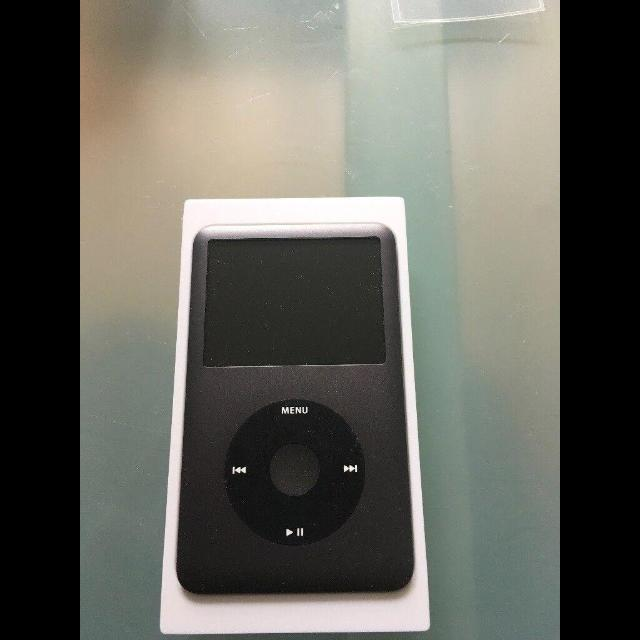Music-Player: (169, 220, 425, 608)
